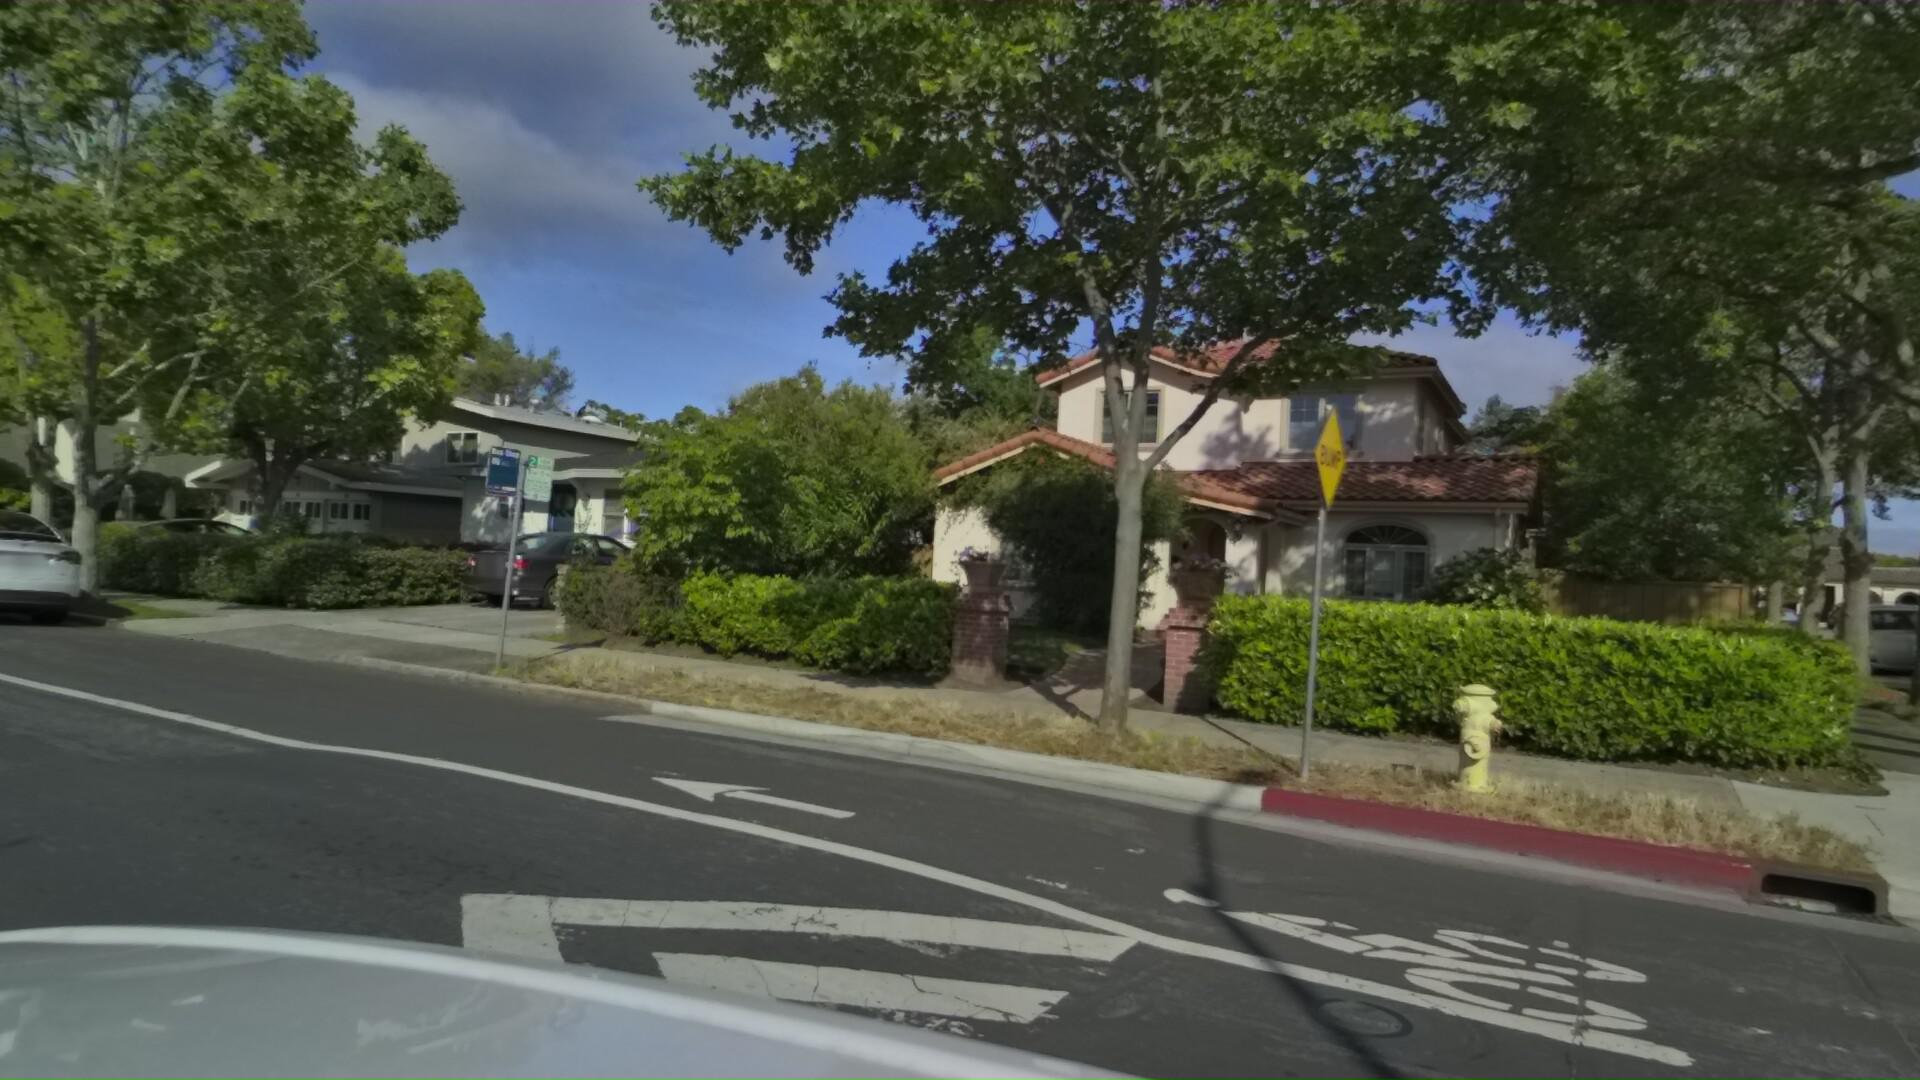car: (436, 520, 676, 613), (0, 488, 107, 629), (1811, 603, 1920, 687), (1870, 608, 1920, 638)
